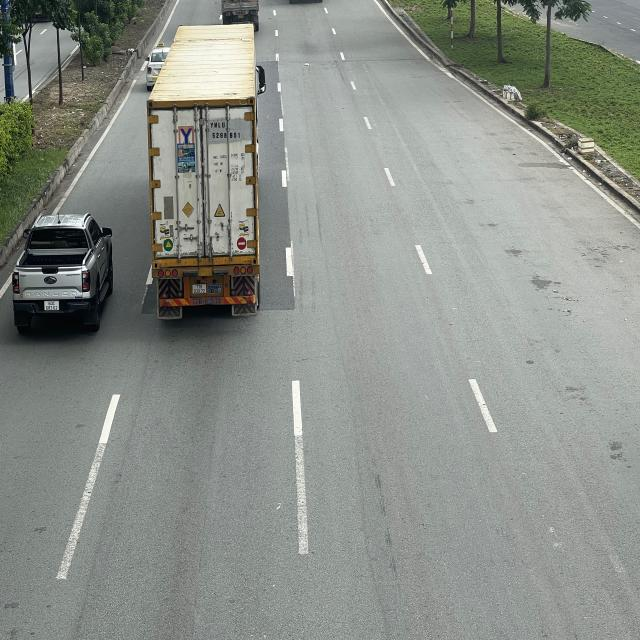car: (11, 215, 114, 330)
container: (149, 25, 264, 318)
